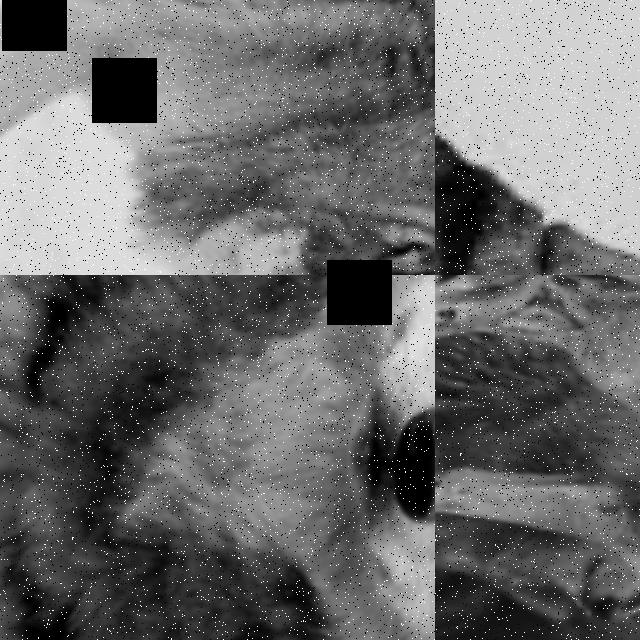dog: (435, 0, 640, 275)
wolf: (0, 275, 435, 640), (0, 0, 435, 275), (435, 421, 640, 640), (435, 275, 640, 418), (435, 275, 613, 423)
